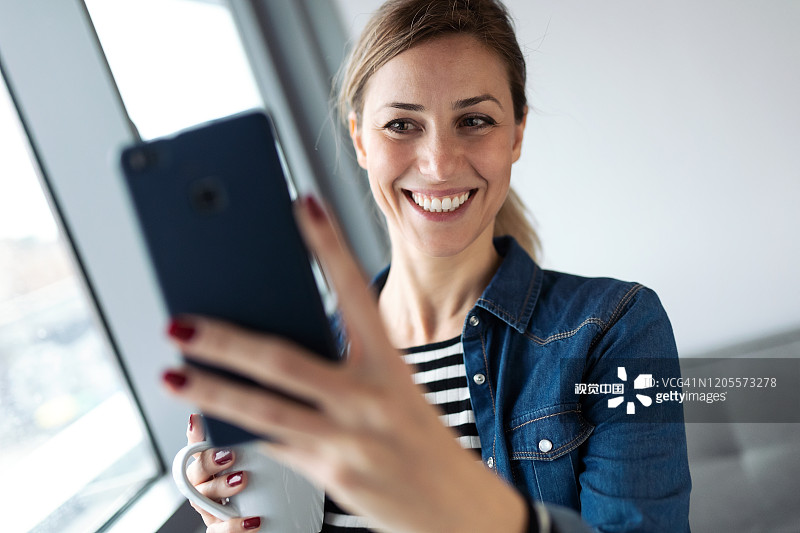taking photos: (144, 172, 535, 533)
